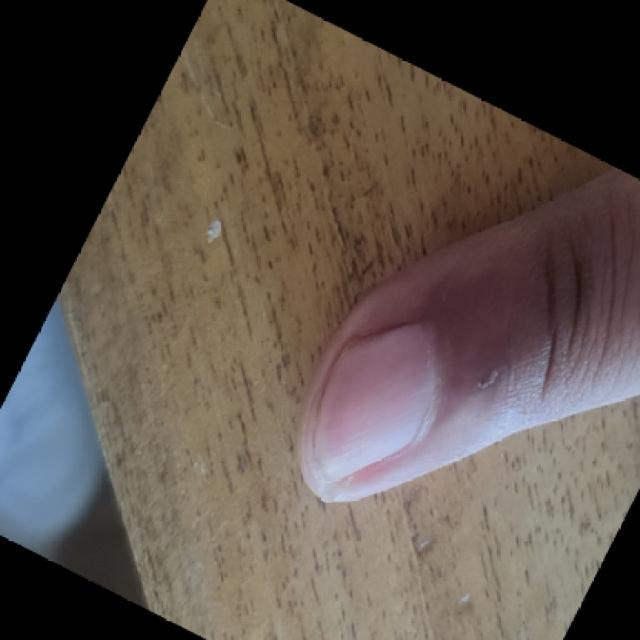Nail: (309, 327, 435, 478)
